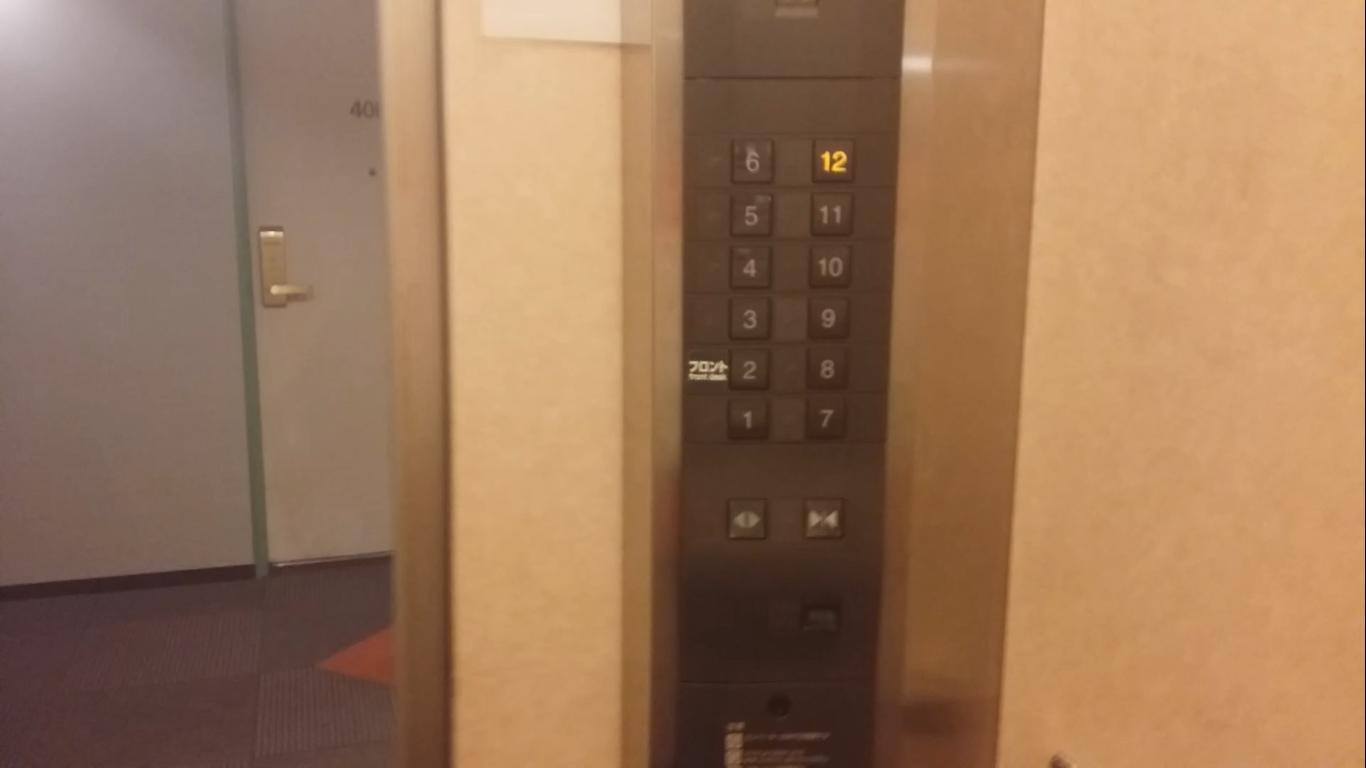1: (723, 393, 771, 444)
10: (802, 241, 852, 289)
11: (805, 188, 855, 238)
12: (809, 134, 857, 185)
2: (724, 344, 771, 391)
3: (724, 291, 775, 341)
4: (725, 239, 774, 291)
5: (727, 189, 775, 238)
6: (727, 132, 776, 187)
7: (801, 392, 849, 442)
8: (801, 340, 850, 390)
9: (802, 292, 850, 341)
close: (796, 491, 847, 542)
open: (723, 492, 768, 542)
